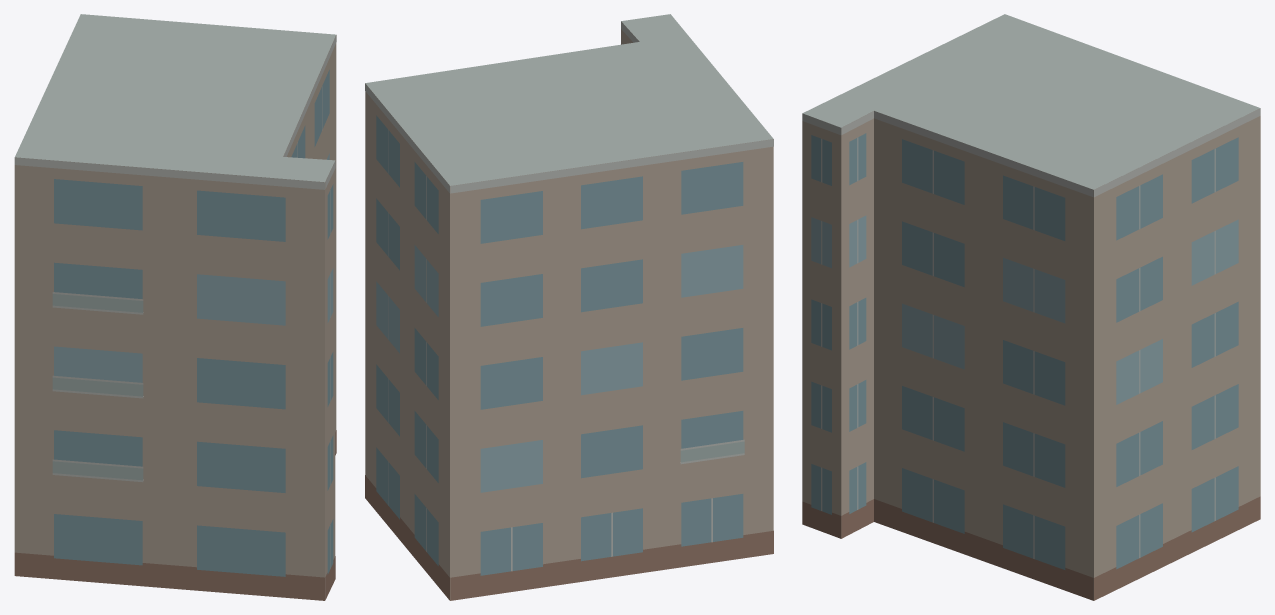
Rendered from survey-upis-32569314.glb.
The picture shows the model from 3 angles, left to right: view 1: azimuth 30°, elevation 25°; view 2: azimuth 150°, elevation 25°; view 3: azimuth 270°, elevation 25°; orthographic projection.
Parts seen in each view (by area): view 1: survey-upis-32569314.tmp; view 2: survey-upis-32569314.tmp; view 3: survey-upis-32569314.tmp.
Boxes of the visible parts, x1=… form: survey-upis-32569314.tmp: x1=14, y1=14, x2=336, y2=600; survey-upis-32569314.tmp: x1=365, y1=14, x2=773, y2=600; survey-upis-32569314.tmp: x1=802, y1=14, x2=1260, y2=600.
Size of the model in its own units: 12.12 by 13.2 by 13.34.
